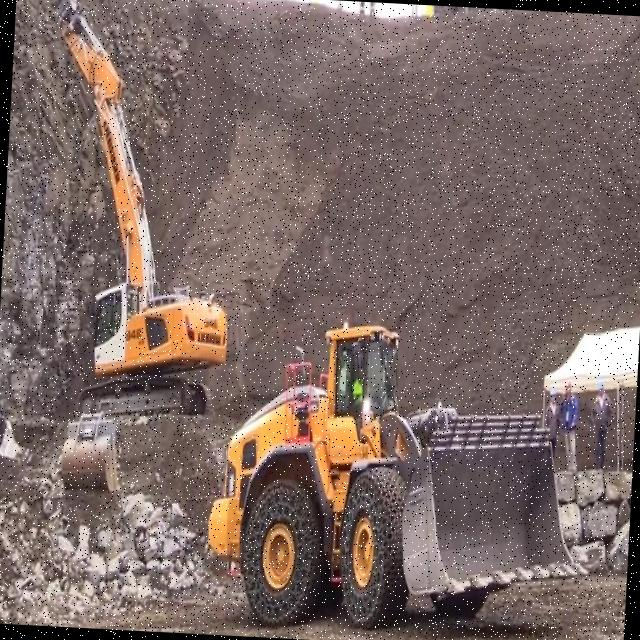Excavator: (6, 0, 247, 418)
Loader: (200, 309, 585, 640)
